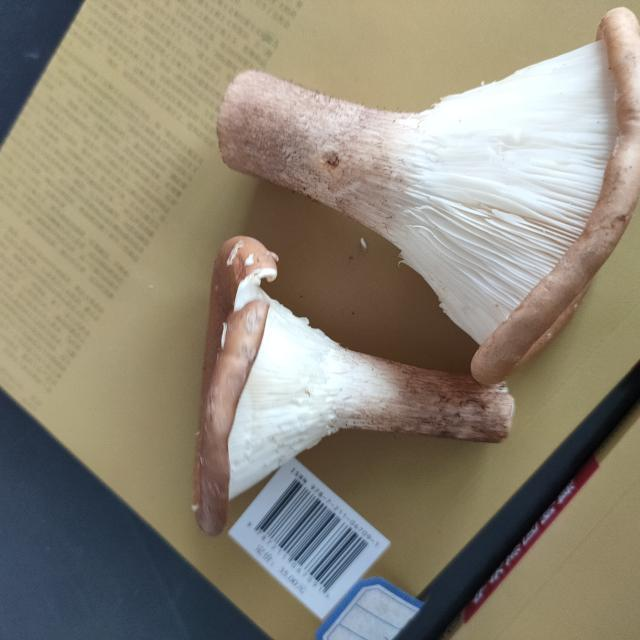Clitocybe maxima: (215, 11, 637, 381), (189, 234, 515, 533)
